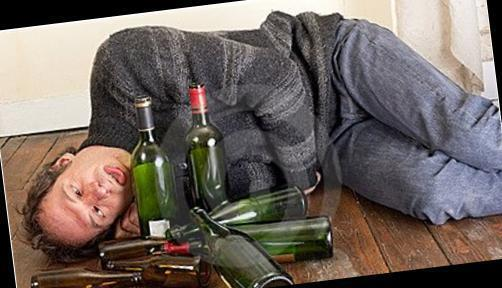Drunk: (46, 148, 130, 228)
